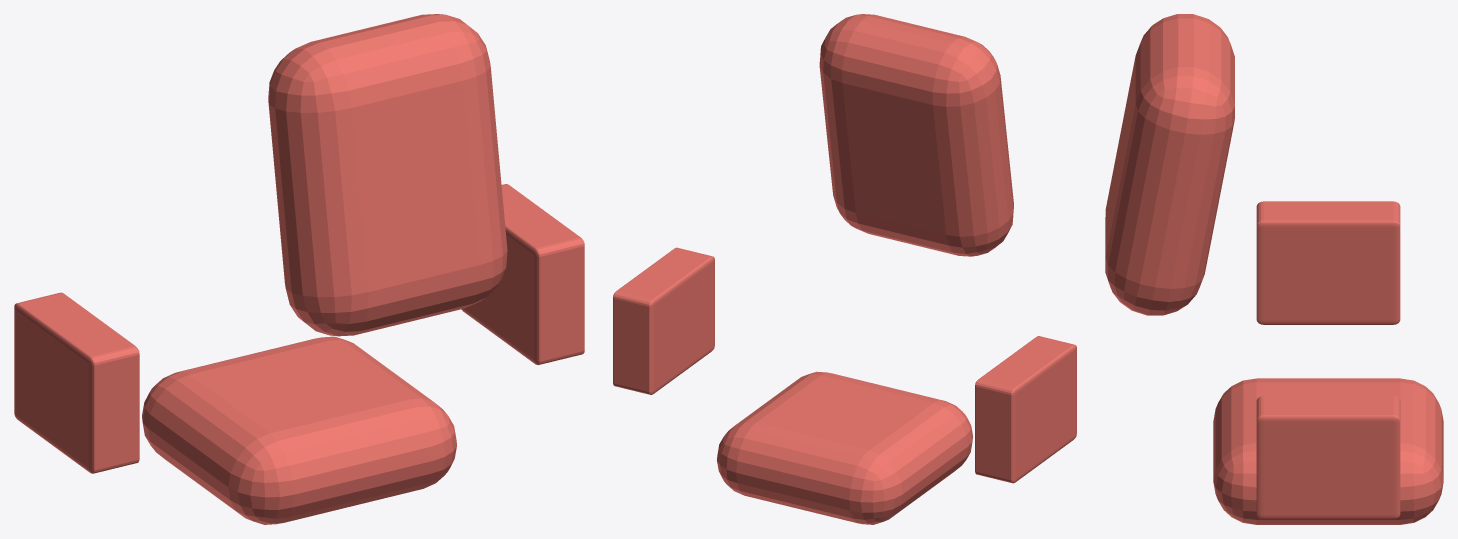
File: blender-chair.glb
The picture shows the model from 3 angles, left to right: view 1: azimuth 30°, elevation 25°; view 2: azimuth 150°, elevation 25°; view 3: azimuth 270°, elevation 25°; orthographic projection. The views are drawn at different scales.
Parts seen in each view (by area): view 1: Cube.001, Cube, Cube.002, Cube.003; view 2: Cube.001, Cube, Cube.002, Cube.003; view 3: Cube.001, Cube.003, Cube.002, Cube.
Boxes of the visible parts, <box> form: Cube.001: <box>268,14,507,336</box>; Cube: <box>142,336,456,524</box>; Cube.002: <box>14,292,139,473</box>; Cube.003: <box>461,184,584,364</box>; Cube.001: <box>819,14,1013,256</box>; Cube: <box>717,371,972,524</box>; Cube.002: <box>975,336,1076,483</box>; Cube.003: <box>613,247,714,394</box>; Cube.001: <box>1105,14,1234,315</box>; Cube.003: <box>1256,396,1400,519</box>; Cube.002: <box>1256,201,1400,324</box>; Cube: <box>1213,378,1443,524</box>.
Size of the model in its own units: 0.71 by 0.6875 by 0.4702.
